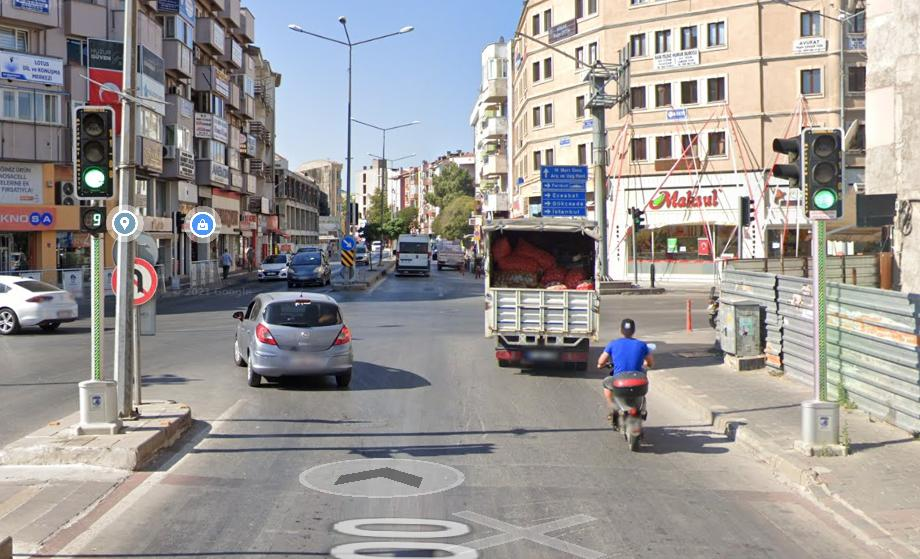greenlight: (72, 103, 118, 202), (802, 129, 844, 221)
